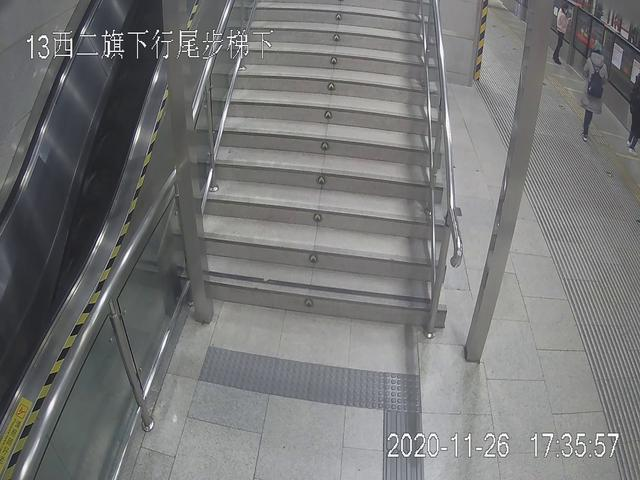person: (579, 41, 609, 146), (552, 1, 580, 65)
